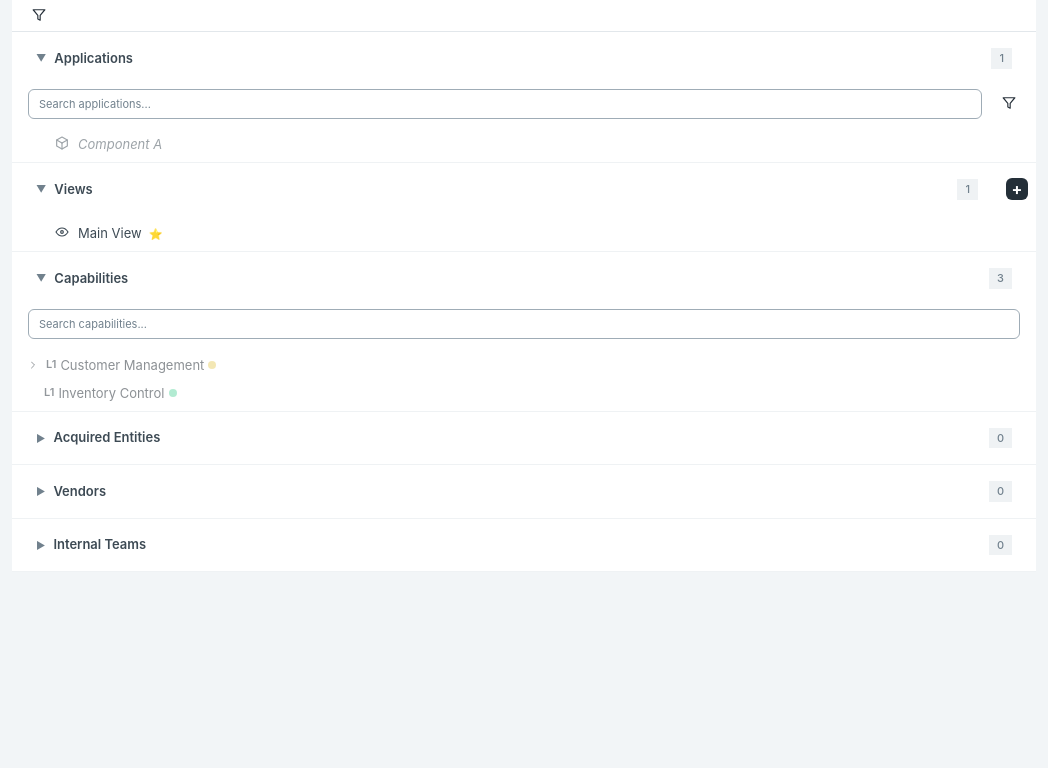
Capability UI Consistency › Context Menu Consistency › Tree Context Menu for Capabilities › should show Delete from Model option in capability tree context menu
Check: the text "Customer Management" is shown, box left=60, top=356, right=204, bottom=372
Step 1. Right-click the list item "L1 Customer Management" → point(120, 365), box left=24, top=356, right=216, bottom=374
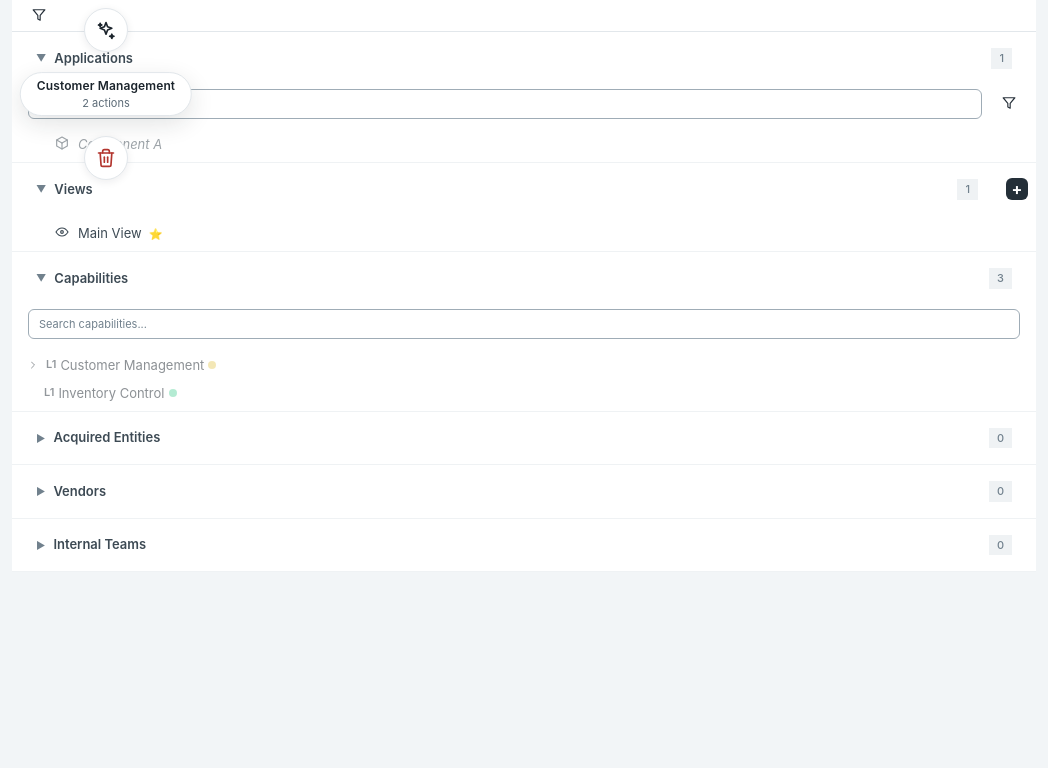
Check: the menu item named "Delete capability from model" is shown, box left=84, top=136, right=128, bottom=180
